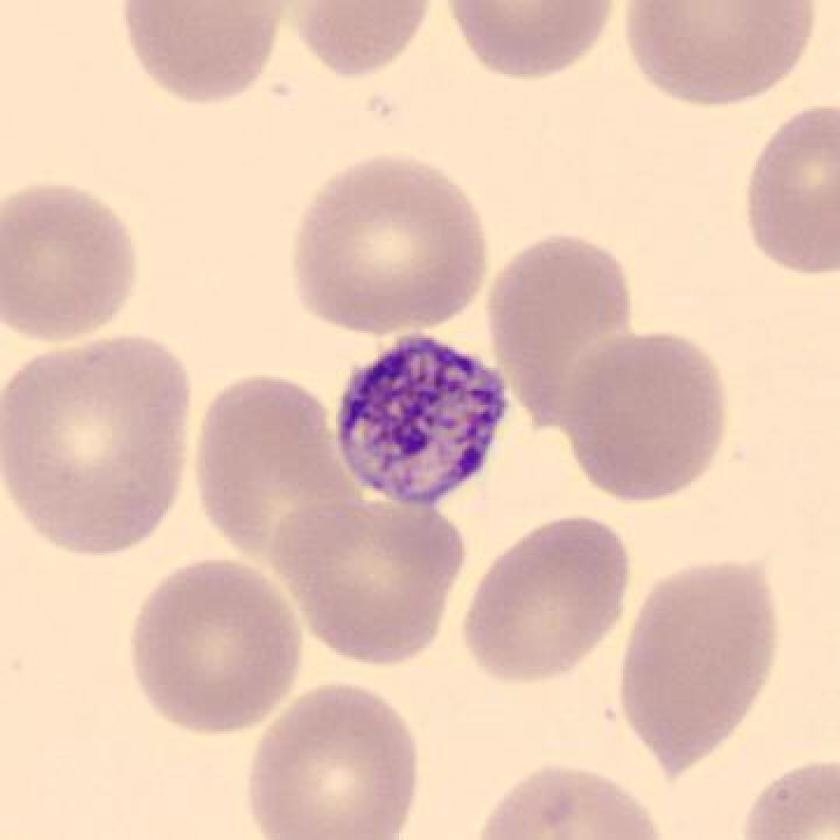platelets: (328, 323, 514, 522)
